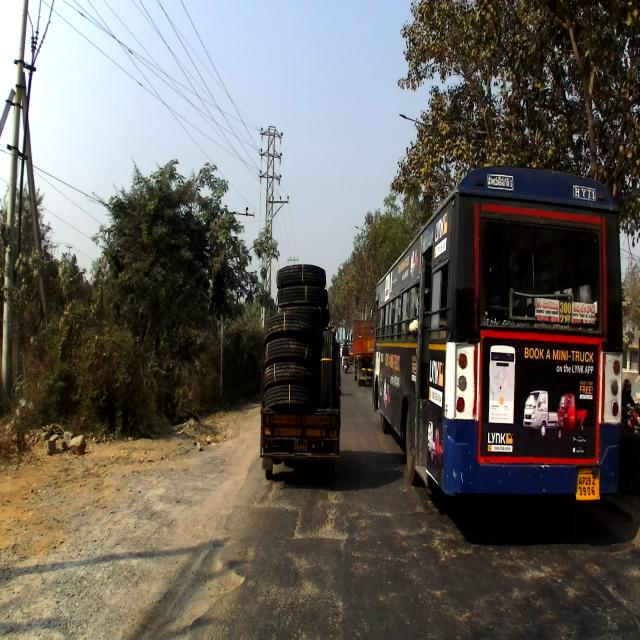bus ahead at: (374, 169, 625, 515)
stones ahead at: (40, 421, 91, 465)
truck ahead at: (263, 258, 343, 482)
